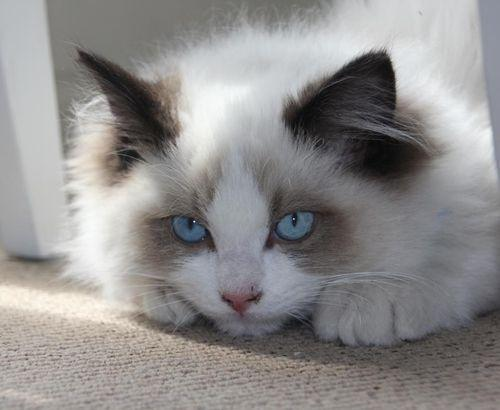ragdoll: (72, 40, 407, 353)
